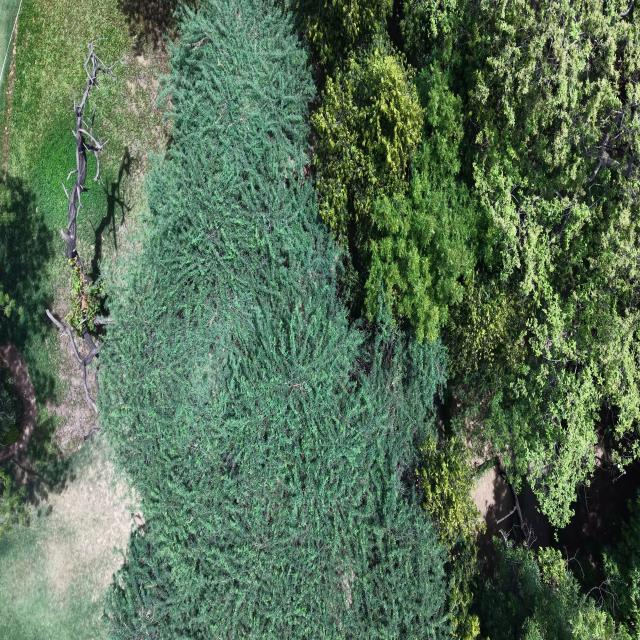DRY_AREA: (0, 336, 141, 639), (0, 437, 141, 639), (0, 437, 135, 639), (519, 462, 639, 590), (100, 124, 169, 261), (472, 467, 519, 567), (0, 344, 37, 461), (472, 467, 515, 565), (472, 467, 516, 539), (0, 0, 20, 87), (502, 522, 512, 530)
VEGETATION_TREE: (0, 0, 639, 639), (99, 0, 449, 638), (302, 0, 639, 526), (313, 0, 639, 526), (0, 0, 165, 639), (451, 0, 639, 525), (0, 0, 165, 461), (0, 0, 160, 415), (312, 43, 475, 341), (361, 68, 477, 341), (46, 41, 117, 412), (0, 439, 130, 639), (311, 44, 423, 251), (476, 539, 631, 639), (417, 436, 485, 639), (0, 172, 55, 398), (282, 0, 392, 67), (604, 497, 639, 638), (396, 0, 465, 69), (65, 261, 102, 331), (0, 0, 19, 110), (0, 179, 23, 263), (0, 470, 28, 539), (0, 366, 22, 447), (0, 366, 20, 446), (0, 367, 19, 446), (0, 182, 21, 228)
